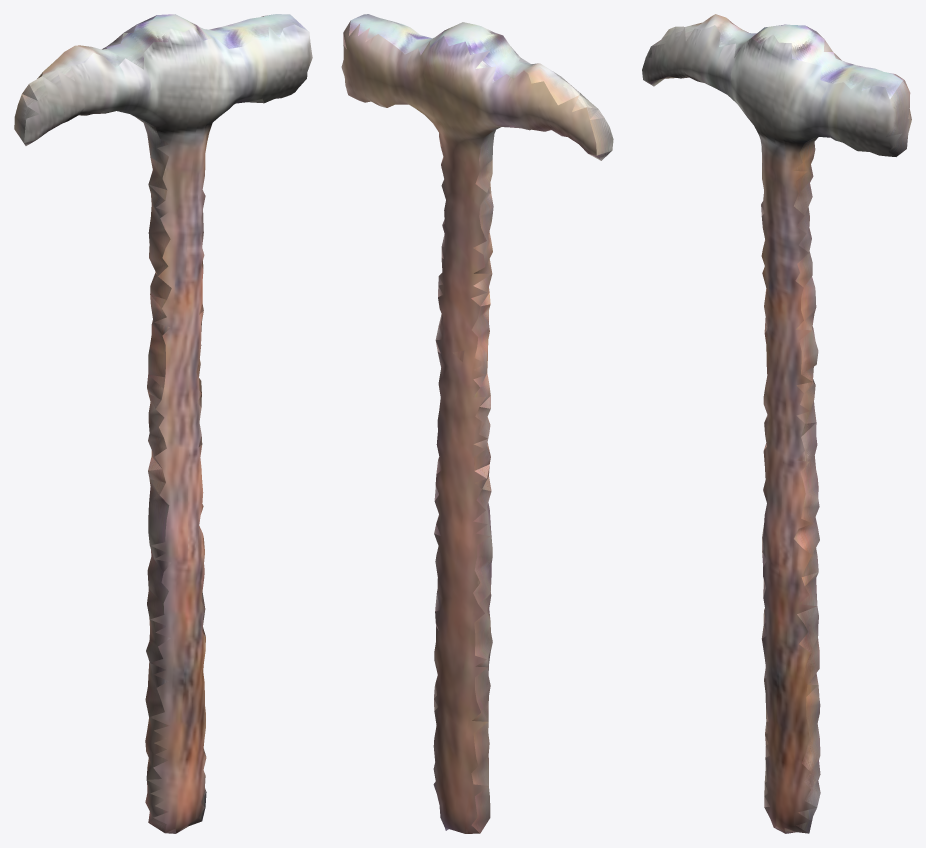
The model's file is hammer2.glb.
3 views of the same model, side by side, from view 1: azimuth 30°, elevation 25°; view 2: azimuth 150°, elevation 25°; view 3: azimuth 330°, elevation 25° (orthographic).
Visible parts, largest first — view 1: geometry_0.009; view 2: geometry_0.009; view 3: geometry_0.009.
Part boxes in pixels (x1=…): geometry_0.009: x1=14, y1=14, x2=312, y2=833; geometry_0.009: x1=341, y1=14, x2=613, y2=833; geometry_0.009: x1=642, y1=14, x2=911, y2=833.
Bounding box in the file's own units: 0.1617 × 0.4589 × 0.0488.
Materials: 1 (1 with a texture image).
